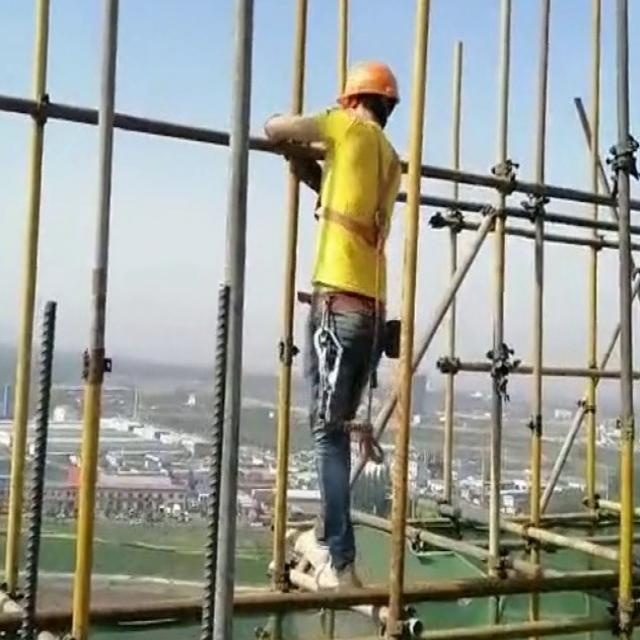Arnes_seguridad: (309, 109, 400, 262)
